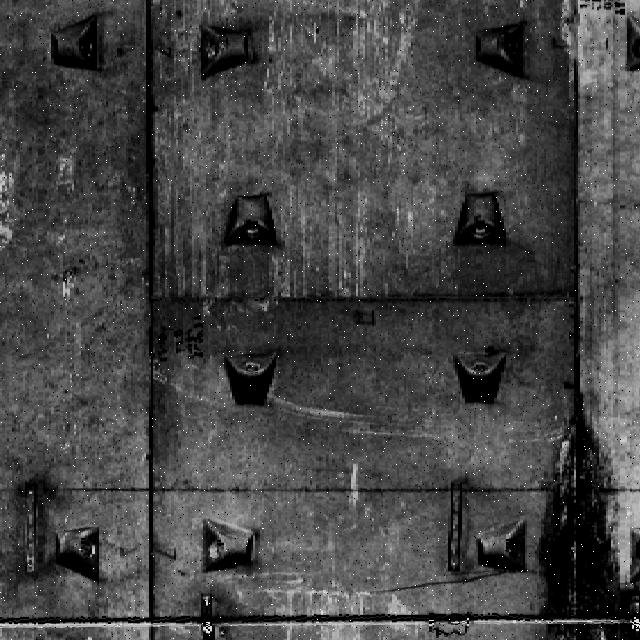leakage: (525, 389, 639, 639)
